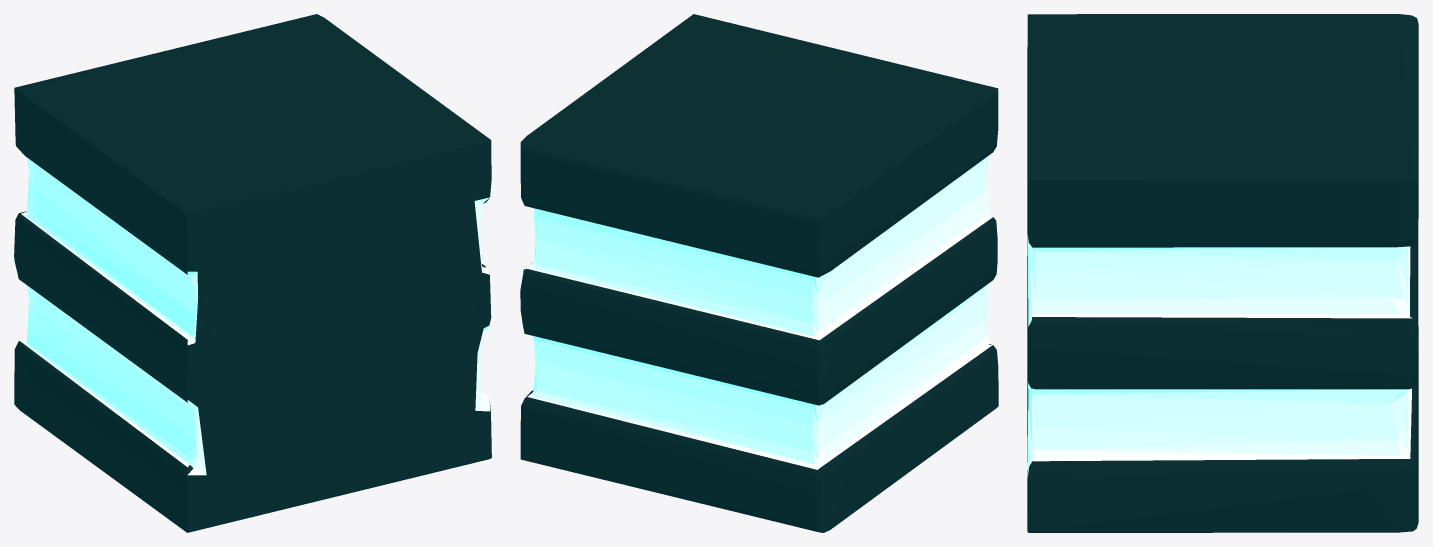
Rendered from trilateral.glb.
3 views of the same model, side by side, from view 1: azimuth 30°, elevation 25°; view 2: azimuth 150°, elevation 25°; view 3: azimuth 270°, elevation 25° (orthographic). The views are drawn at different scales.
Visible parts, largest first — view 1: trilateral; view 2: trilateral; view 3: trilateral.
Part boxes in pixels (left/top/right/bottom): trilateral: left=14, top=14, right=491, bottom=532; trilateral: left=520, top=14, right=998, bottom=532; trilateral: left=1027, top=14, right=1418, bottom=532.
Size of the model in its own units: 6 by 6 by 6.
